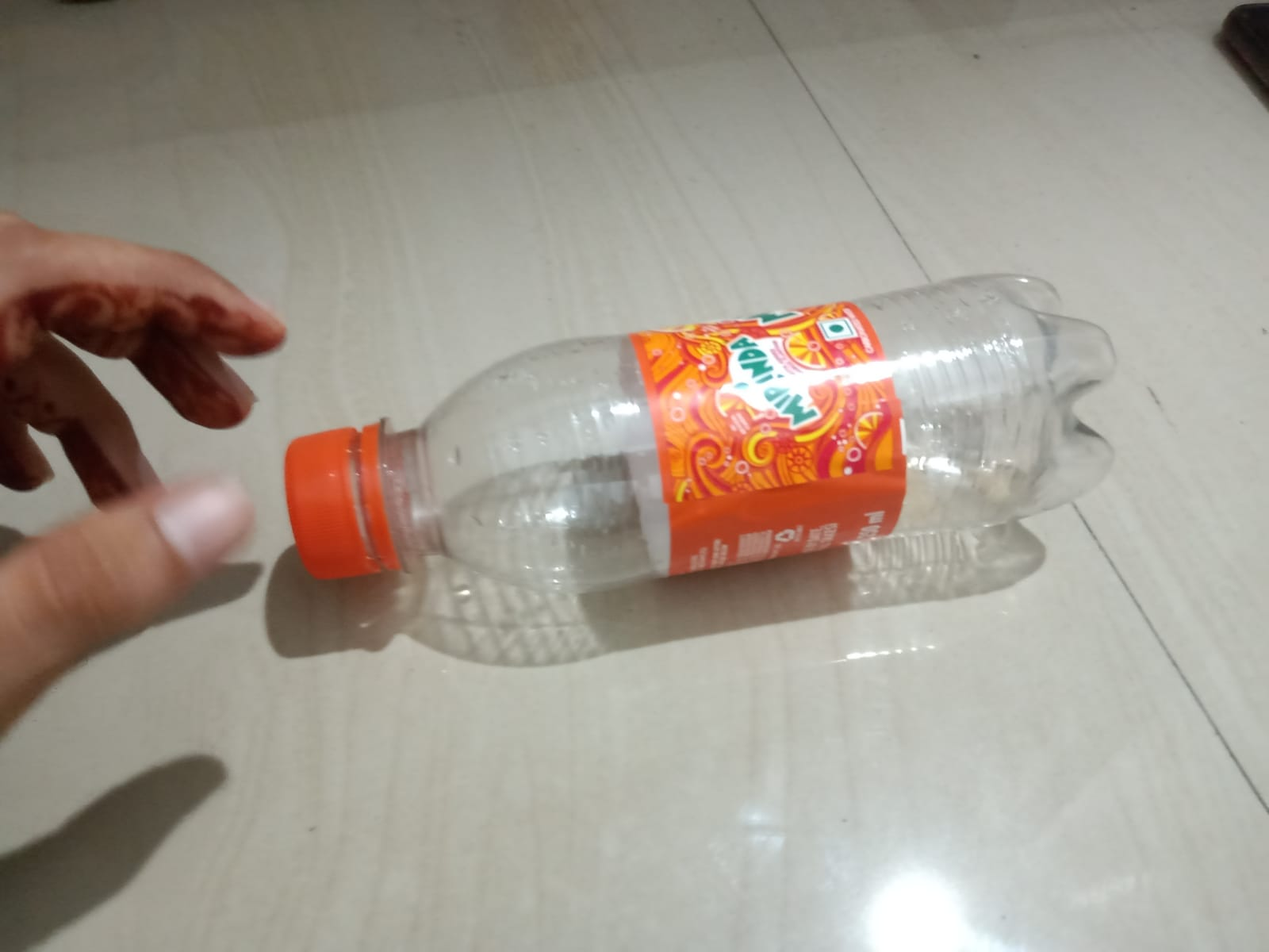plastic: (262, 190, 1224, 625)
